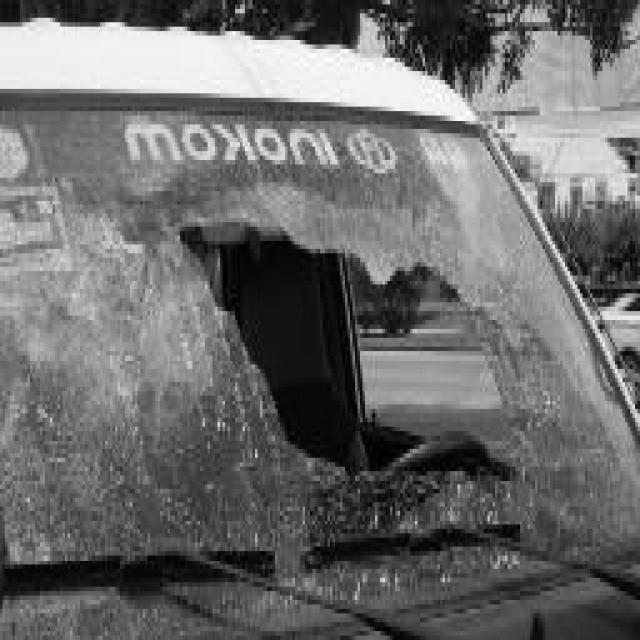Windshield: (0, 98, 640, 596)
